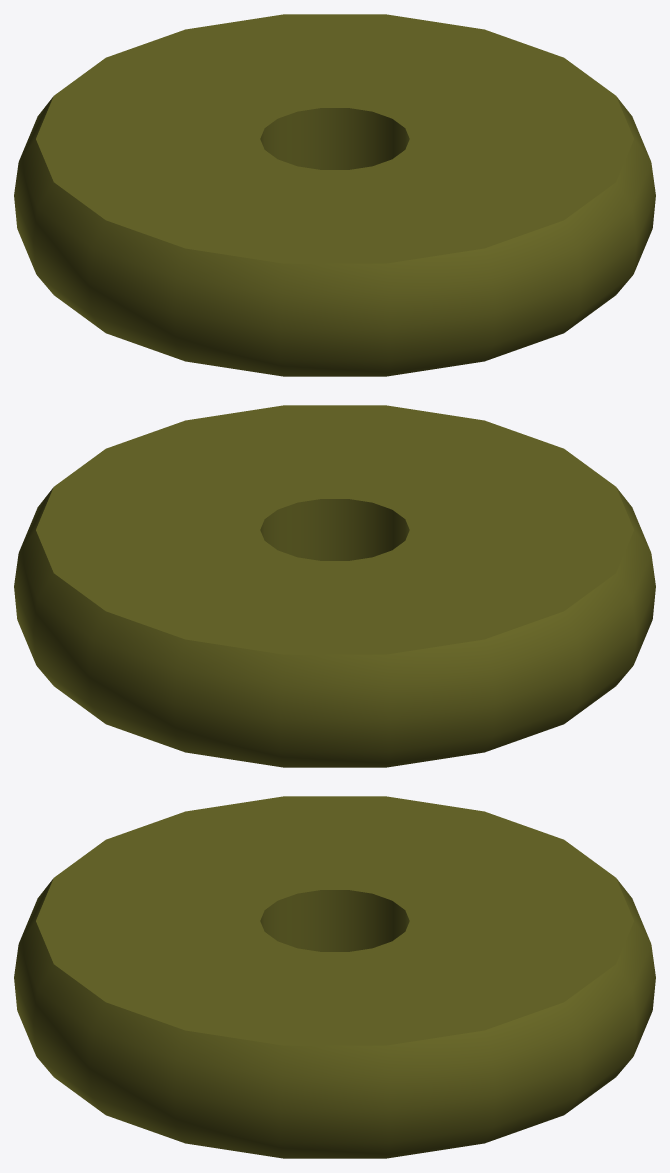
Rendered from ThrowProp_RainbowStackerRing_04.FBX.
3 views of the same model, one above another, from view 1: azimuth 30°, elevation 25°; view 2: azimuth 150°, elevation 25°; view 3: azimuth 270°, elevation 25° (orthographic).
Visible parts, largest first — view 1: RainbowStackerRing_04; view 2: RainbowStackerRing_04; view 3: RainbowStackerRing_04.
Boxes of the visible parts, left/top/right/bottom form: RainbowStackerRing_04: left=14, top=14, right=655, bottom=376; RainbowStackerRing_04: left=14, top=405, right=655, bottom=767; RainbowStackerRing_04: left=14, top=796, right=655, bottom=1158.
Bounding box in the file's own units: 12.68 × 2.5 × 12.88.
1 material, 1 textured.
